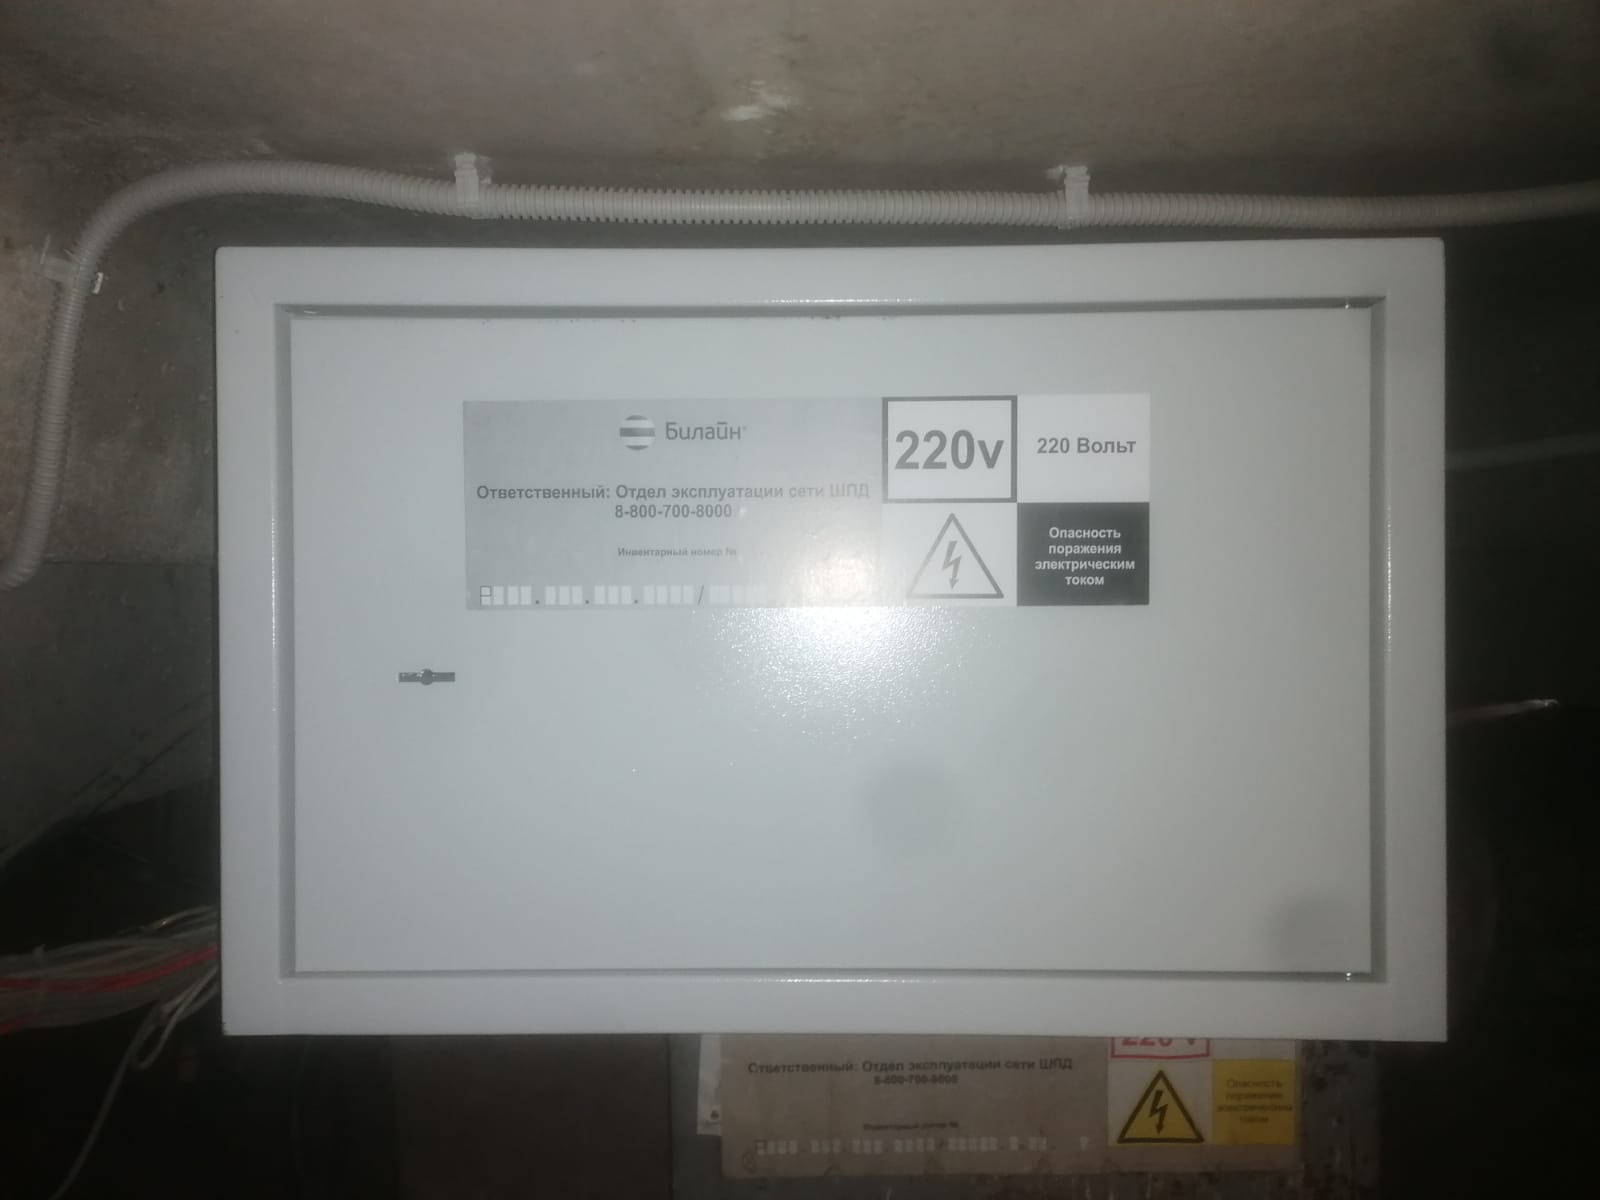shta-7m: (207, 237, 1451, 1047)
